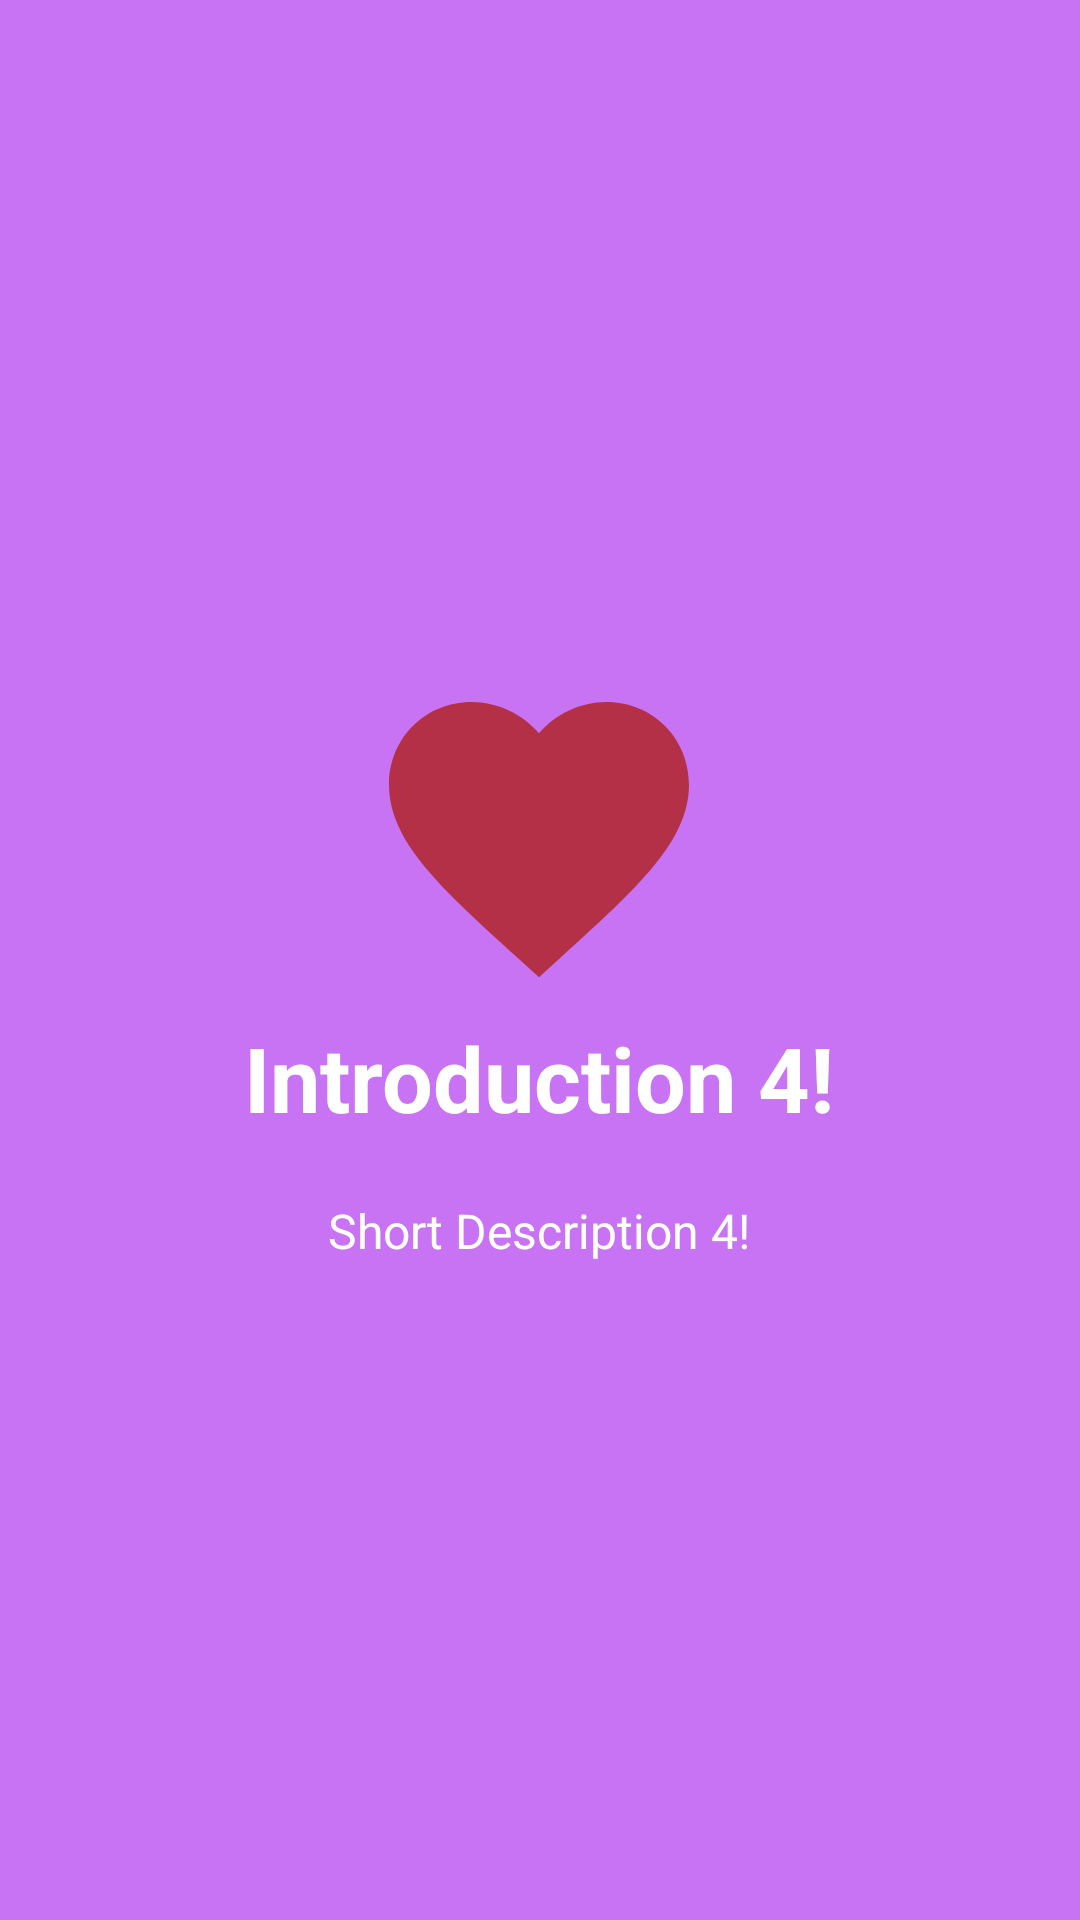

Locate icon controls on the screen. Image size 1080w x 1920h, boxes as {"x1": x1, "y1": y1, "x2": x2, "y2": y2}.
heart: {"x1": 389, "y1": 702, "x2": 689, "y2": 977}
